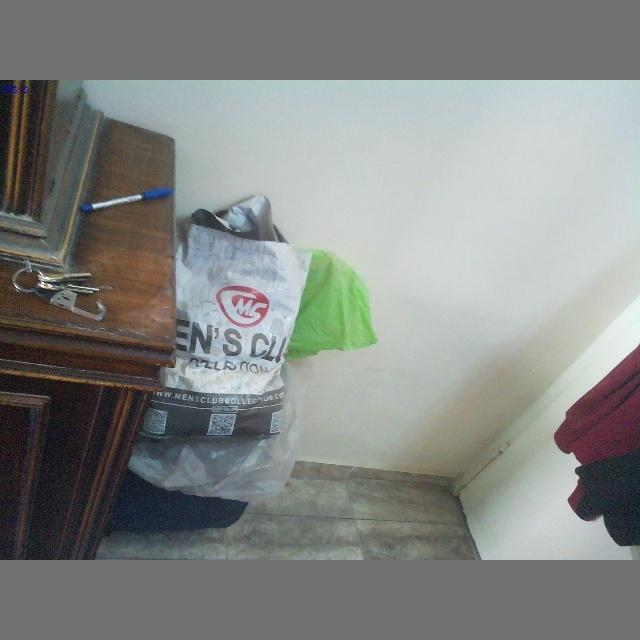Keys: (8, 246, 114, 334)
